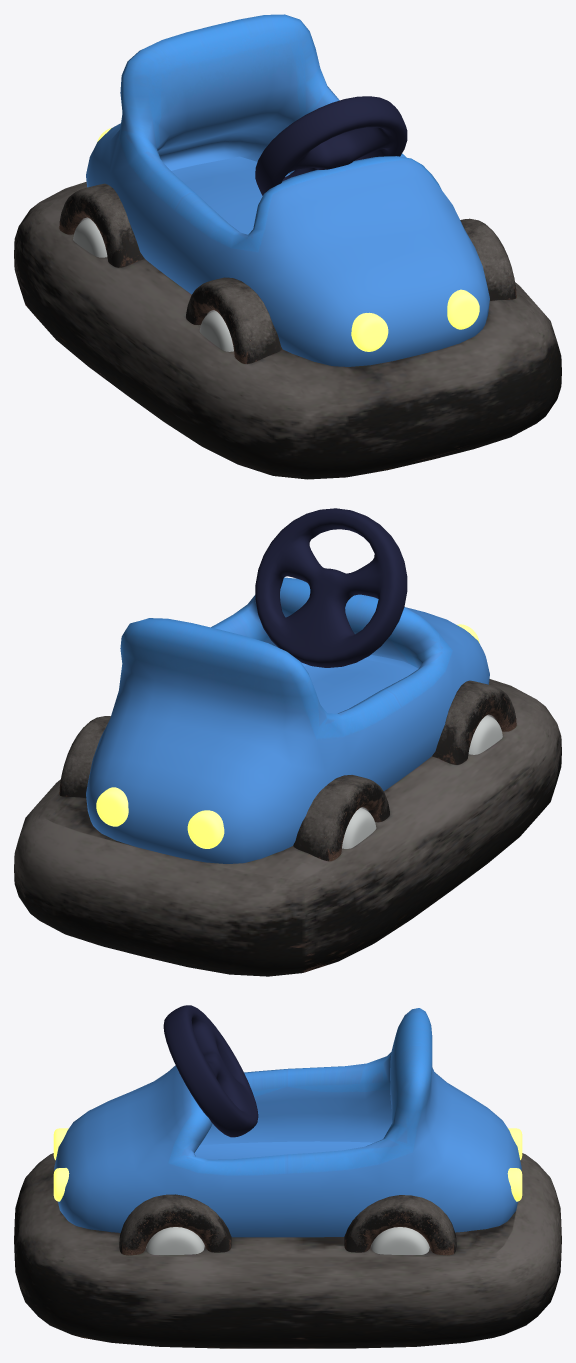
Rendered from 02_Main_Plaza.glb.
3 views of the same model, one above another, from view 1: azimuth 30°, elevation 25°; view 2: azimuth 150°, elevation 25°; view 3: azimuth 270°, elevation 25° (orthographic). The views are drawn at different scales.
Parts seen in each view (by area): view 1: car11_Cube3, car11_Cube_3, car11_Circle3, Handle5, car11_Circle_5, car11_Circle_4; view 2: car11_Cube3, car11_Cube_3, Handle5, car11_Circle3, car11_Circle_5, car11_Circle_4; view 3: car11_Cube3, car11_Cube_3, car11_Circle3, Handle5, car11_Circle_4, car11_Circle_5.
Part boxes in pixels (box(x1,y1,x2,y2)): car11_Cube3: box(86, 14, 489, 366); car11_Cube_3: box(14, 181, 561, 479); car11_Circle3: box(59, 183, 516, 363); Handle5: box(255, 96, 407, 195); car11_Circle_5: box(97, 128, 479, 351); car11_Circle_4: box(73, 218, 233, 351); car11_Cube3: box(86, 577, 489, 863); car11_Cube_3: box(14, 679, 561, 976); Handle5: box(255, 508, 407, 667); car11_Circle3: box(59, 680, 516, 861); car11_Circle_5: box(96, 624, 479, 848); car11_Circle_4: box(342, 715, 502, 848); car11_Cube3: box(54, 1008, 521, 1237); car11_Cube_3: box(14, 1153, 561, 1348); car11_Circle3: box(119, 1194, 456, 1255); Handle5: box(163, 1005, 258, 1137); car11_Circle_4: box(146, 1227, 429, 1254); car11_Circle_5: box(53, 1128, 522, 1201).
Bounding box in the file's own units: 2.89 × 2.51 × 4.42.
3 materials, 1 textured.
